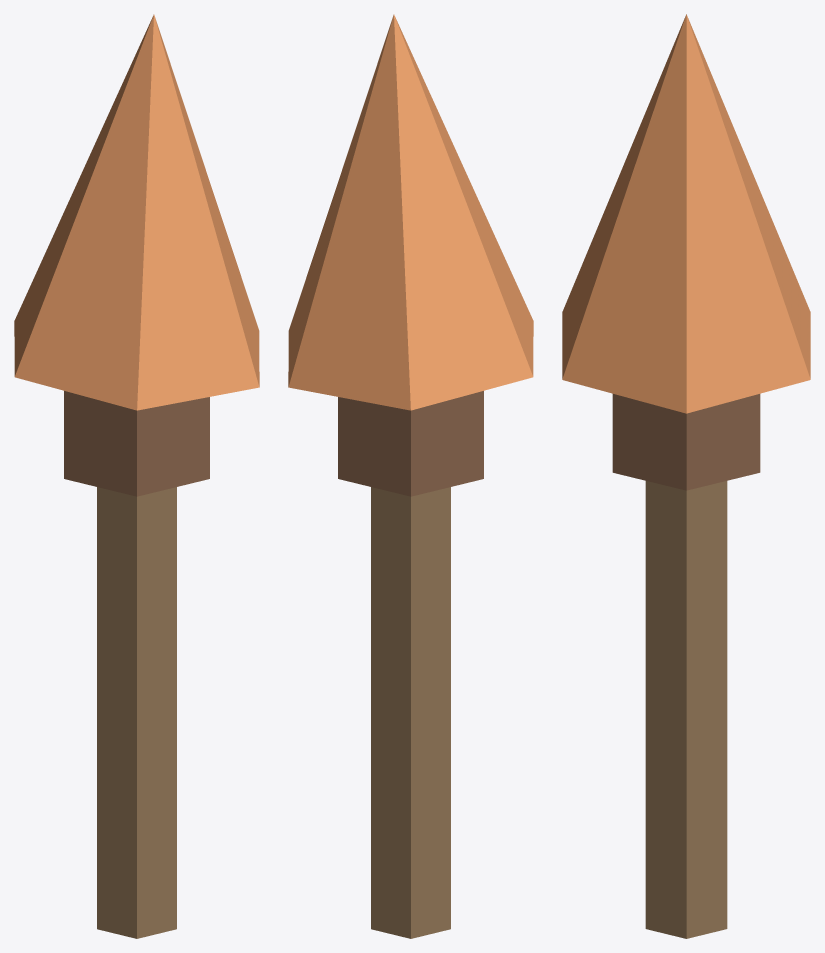
File: animprop_torch_00.glb
3 views of the same model, side by side, from view 1: azimuth 30°, elevation 25°; view 2: azimuth 150°, elevation 25°; view 3: azimuth 270°, elevation 25° (orthographic).
Parts seen in each view (by area): view 1: animprop; view 2: animprop; view 3: animprop.
Part boxes in pixels (left/top/right/bottom): animprop: left=14, top=14, right=259, bottom=938; animprop: left=288, top=14, right=533, bottom=938; animprop: left=562, top=14, right=810, bottom=938.
Bounding box in the file's own units: 0.3355 × 1.18 × 0.291.
